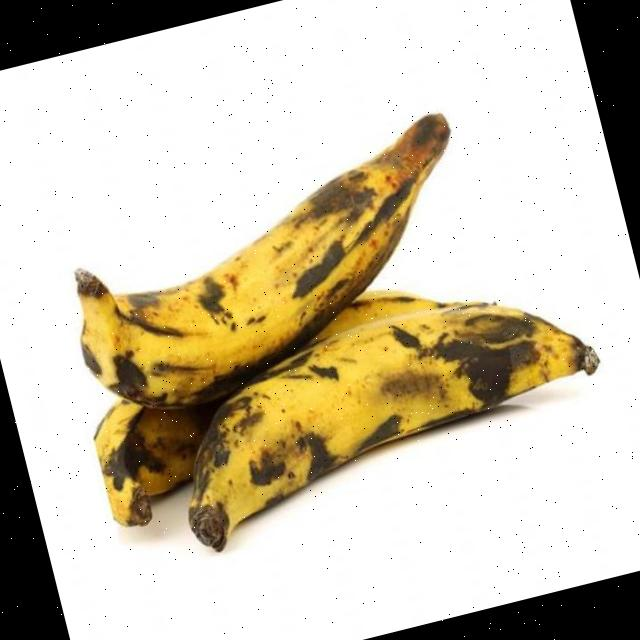banana-peel: (43, 107, 500, 430), (147, 257, 620, 556), (83, 378, 232, 532)
